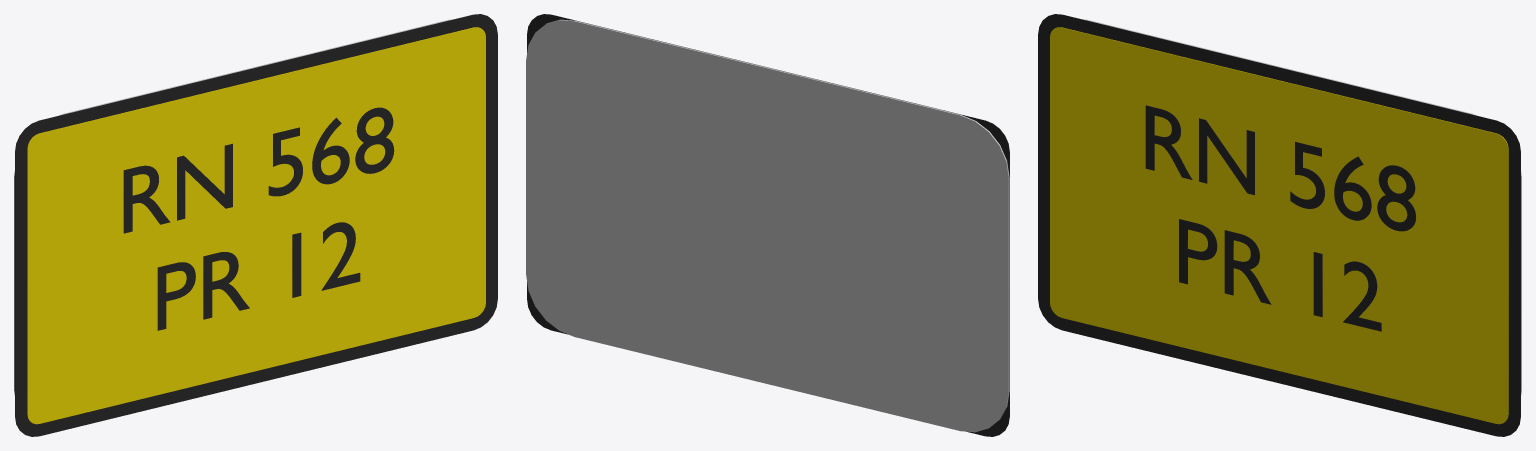
3 views of the same model, side by side, from view 1: azimuth 30°, elevation 25°; view 2: azimuth 150°, elevation 25°; view 3: azimuth 330°, elevation 25° (orthographic).
Visible parts, largest first — view 1: E53_fond01, E53_cadre00, E53_txt02, E53_txt03, E53_dos; view 2: E53_dos, E53_cadre00; view 3: E53_fond01, E53_cadre00, E53_txt02, E53_txt03, E53_dos.
Part boxes in pixels (x1,y1,x2,y2): E53_fond01: [27, 27, 485, 424]; E53_cadre00: [15, 14, 497, 436]; E53_txt02: [123, 107, 394, 233]; E53_txt03: [157, 222, 360, 330]; E53_dos: [14, 19, 452, 395]; E53_dos: [526, 19, 1009, 432]; E53_cadre00: [527, 14, 1009, 436]; E53_fond01: [1050, 27, 1508, 424]; E53_cadre00: [1038, 14, 1520, 436]; E53_txt02: [1145, 105, 1416, 231]; E53_txt03: [1179, 219, 1381, 331]; E53_dos: [1083, 19, 1521, 395].
Size of the model in its own units: 0.4 by 0.25 by 0.0029.
